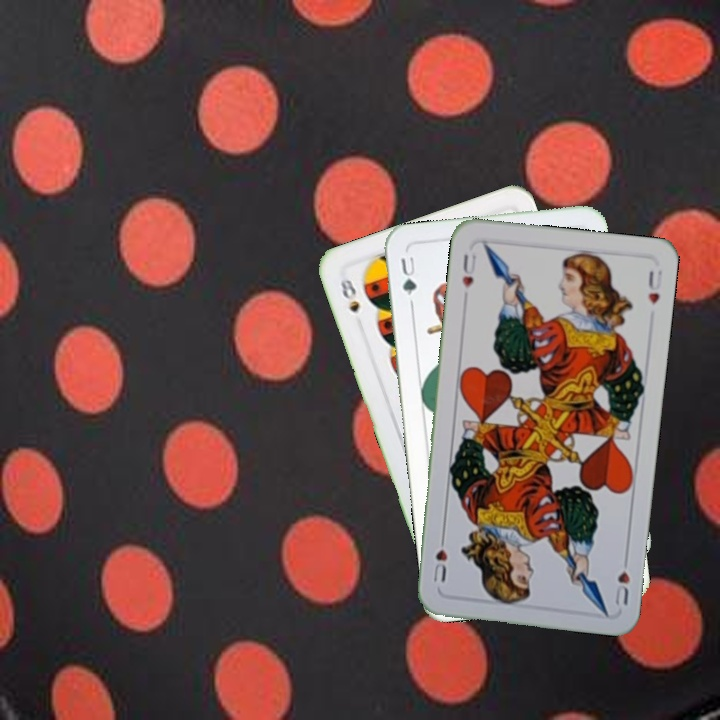GU: (396, 252, 420, 308)
HU: (611, 551, 633, 609), (458, 247, 479, 291)
S8: (336, 275, 362, 315)
